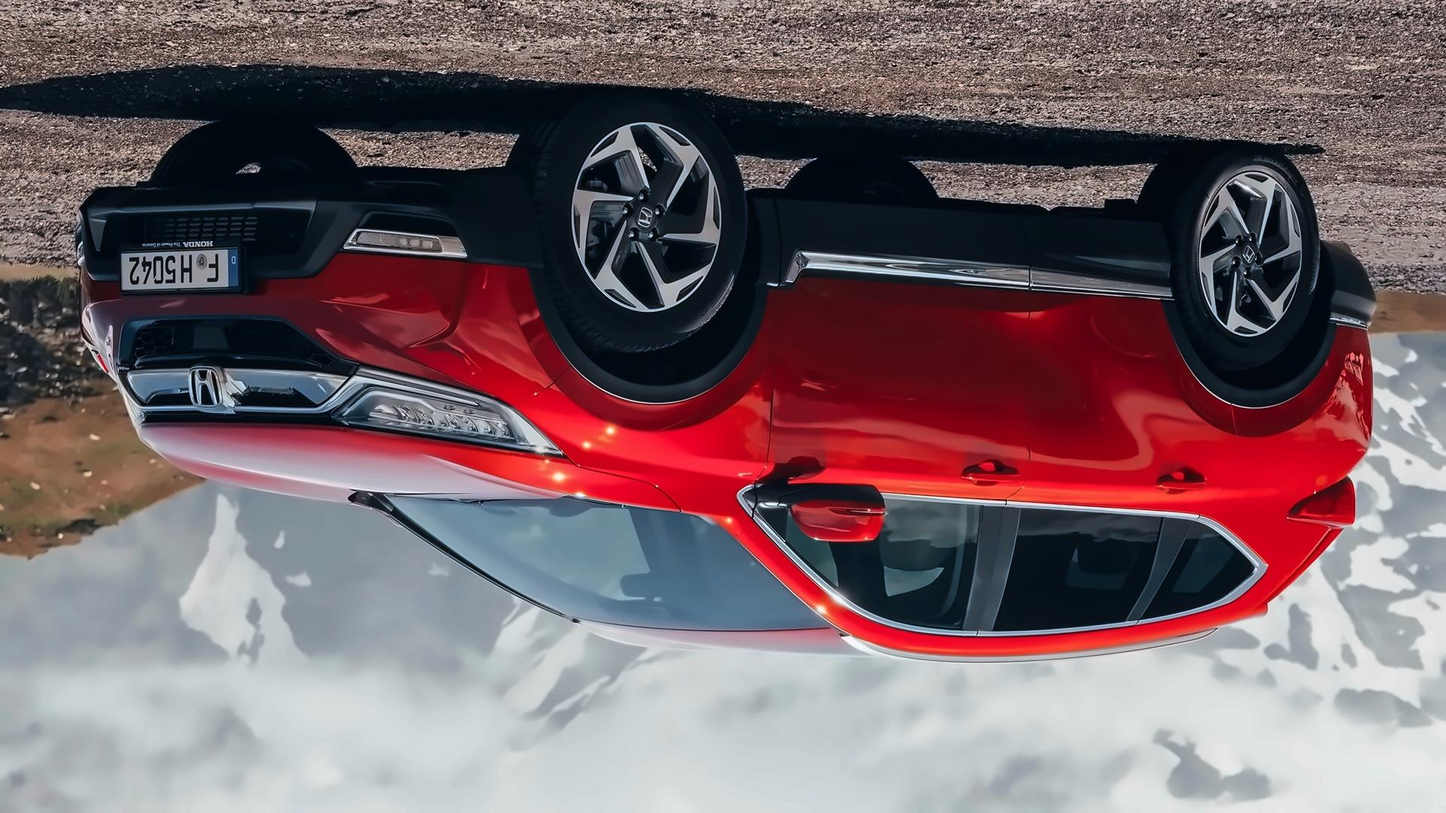Driver-s door - -F-R-: (772, 266, 1030, 656)
Fender - -F-R-: (524, 175, 782, 516), (128, 412, 681, 518)
Front bumper: (64, 170, 580, 381)
Headlight - -R-: (322, 347, 570, 475)
Passenger-s door - -R-R-: (1025, 274, 1243, 646)
Rear bumper: (1201, 341, 1376, 564), (1307, 230, 1403, 436)
Rear light - -R-: (1284, 463, 1361, 547)
Side bumper - -R-: (748, 181, 1188, 309)
Side mirror - -R-: (776, 478, 895, 557)
